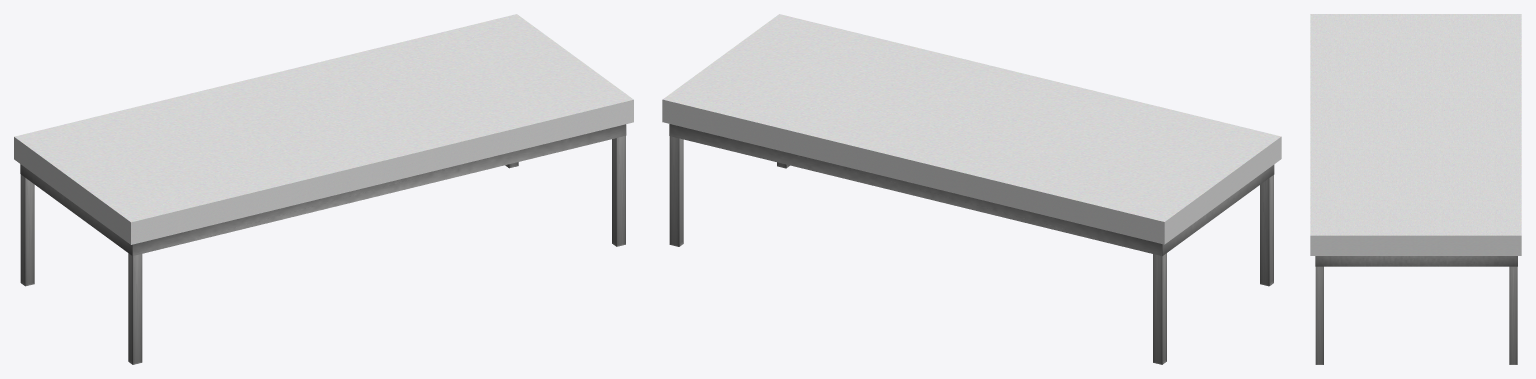
Rendered from mesitaBlanca.FBX.
3 views of the same model, side by side, from view 1: azimuth 30°, elevation 25°; view 2: azimuth 150°, elevation 25°; view 3: azimuth 270°, elevation 25° (orthographic). The views are drawn at different scales.
Parts seen in each view (by area): view 1: Mesa, Patas; view 2: Mesa, Patas; view 3: Mesa, Patas.
Part boxes in pixels (x1,y1,x2,y2): Mesa: [14, 14, 633, 244]; Patas: [20, 124, 626, 364]; Mesa: [662, 14, 1281, 244]; Patas: [669, 124, 1274, 364]; Mesa: [1310, 14, 1521, 255]; Patas: [1315, 256, 1517, 364].
Bounding box in the file's own units: 2.55 × 1.03 × 0.7058.
